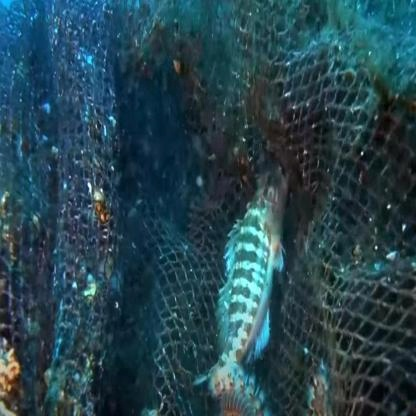net: (75, 82, 416, 416)
